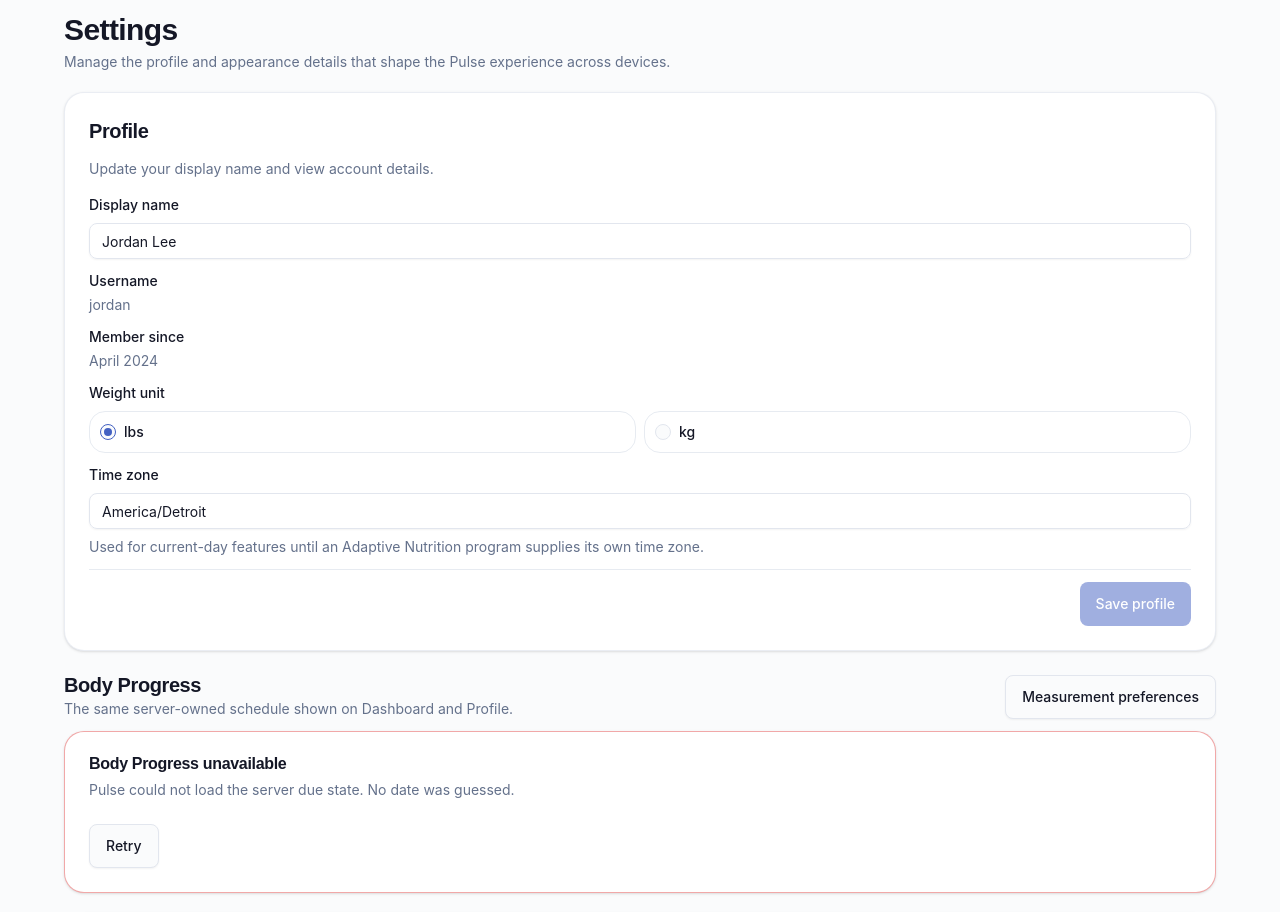
Scenario: SettingsPage › shows an error message when profile save fails
Replace the text in the field labelled "Display name" with "Jordan With Error". click: (640, 241)
box: [89,223,1191,259]
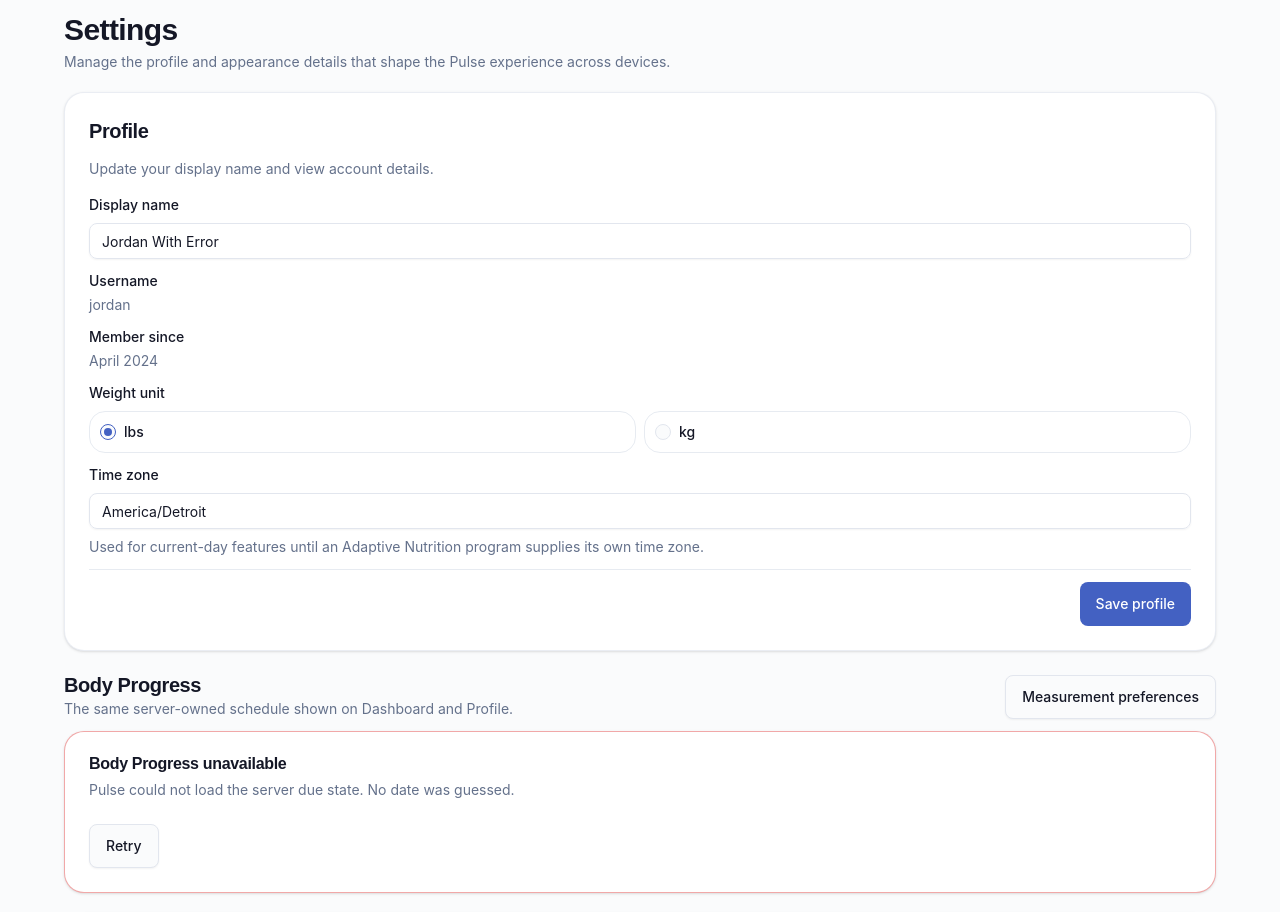
Click the button "Save profile". click: (1135, 604)
box: [1080,582,1191,626]
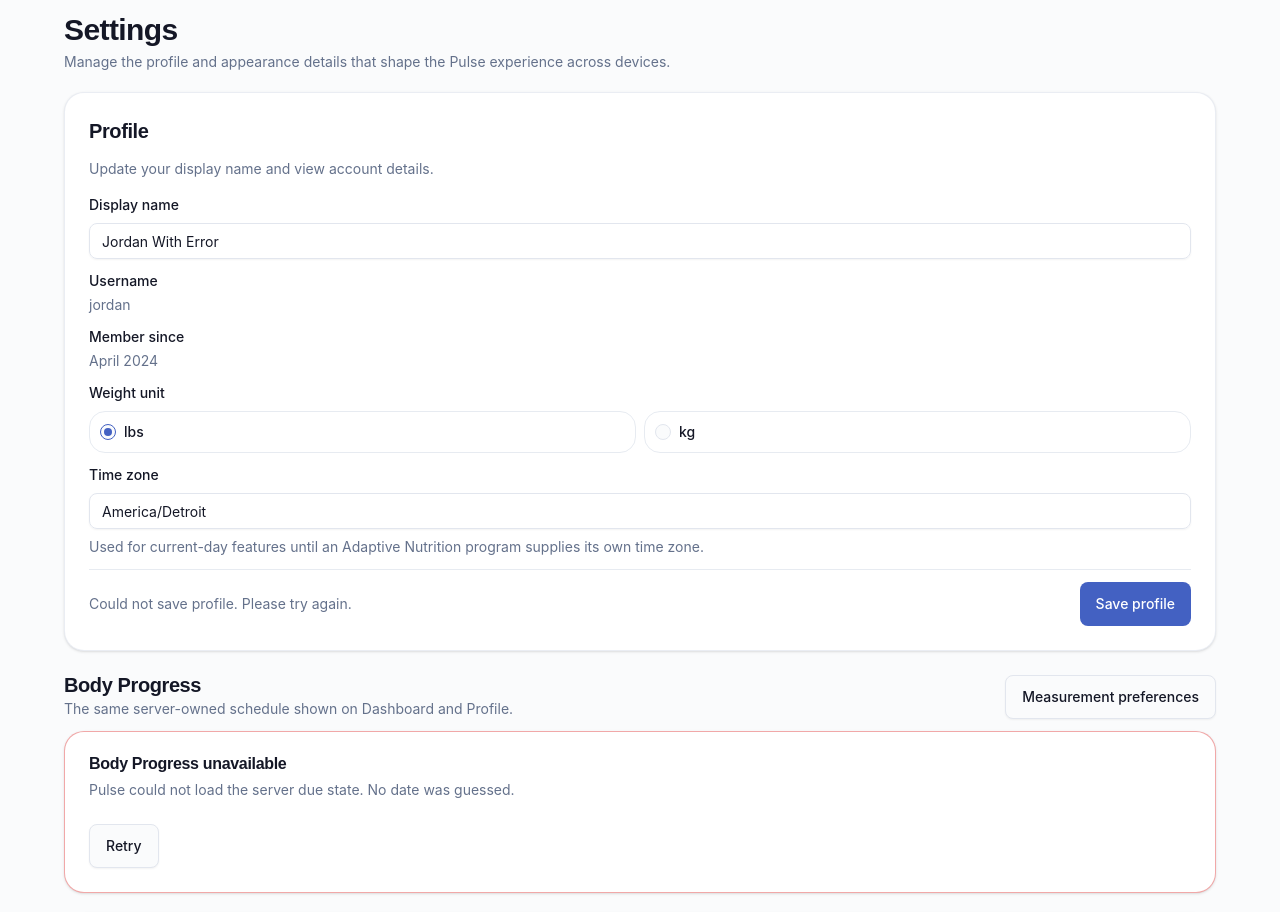
Now the text "Could not save profile. Please try again." is shown, box [89,594,352,614]
